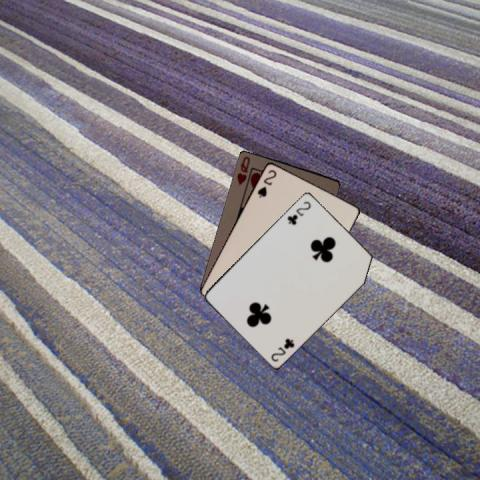2c: (284, 198, 312, 226), (268, 335, 296, 363)
2s: (254, 166, 278, 199)
Qh: (234, 153, 252, 186)
